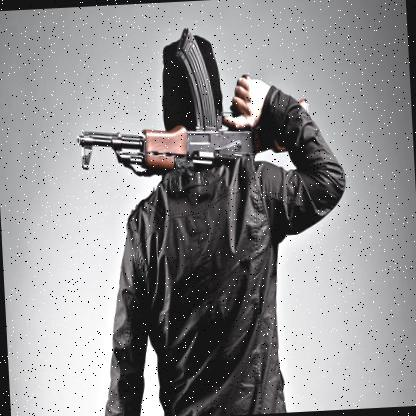rifle: (68, 97, 315, 200)
